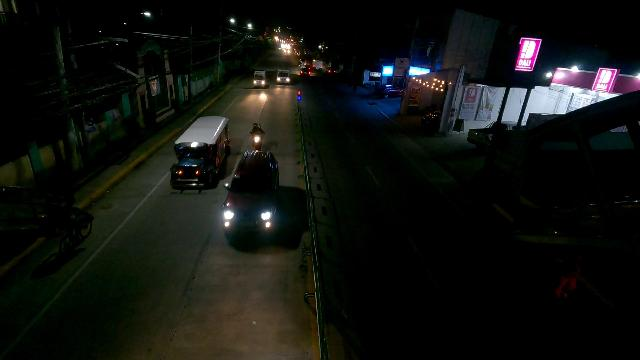car: (222, 151, 279, 245), (301, 69, 312, 78), (326, 68, 337, 75)
jeepney: (168, 114, 231, 188)
motorcycle: (247, 122, 268, 153)
van: (252, 70, 268, 88), (275, 66, 290, 85)
